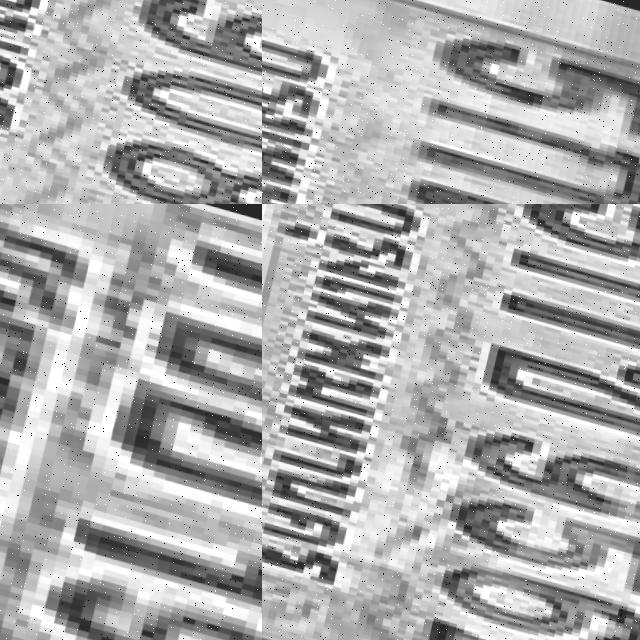license-plate: (262, 204, 640, 640), (0, 204, 262, 640), (262, 0, 640, 204), (0, 0, 262, 204)
